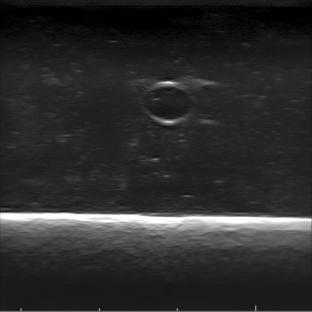vessel: (140, 79, 195, 125)
